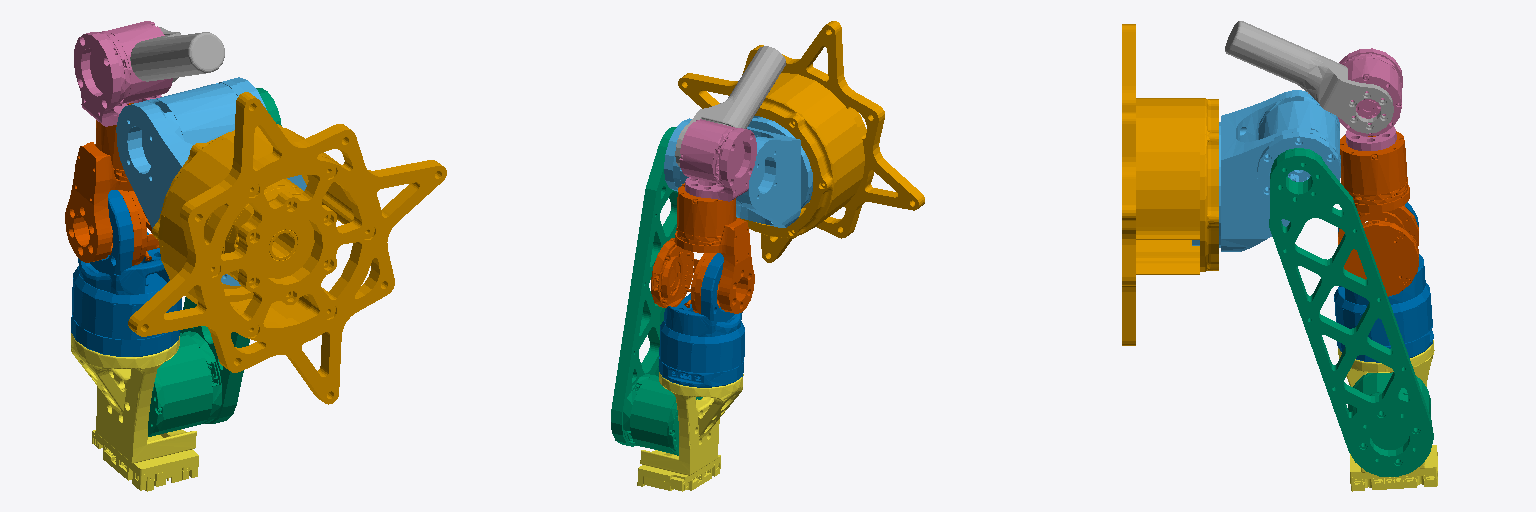
The robot description file, URDF, robot "generated_robot":
<?xml version='1.0' encoding='utf-8'?>
<robot name="generated_robot">
  <link name="base_link">
    <inertial>
      <origin xyz="-0.0012523874 -0.0079478434 0.00076099186" rpy="0 0 0" />
      <mass value="0.43745716" />
      <inertia ixx="0.00074168846" iyy="0.0011536837" izz="0.00072505604" ixy="3.1879624e-06" ixz="-1.611022e-05" iyz="-1.7502196e-06" />
    </inertial>
    <visual>
      <origin xyz="0.26681721 -0.086880066 -1.3988008" rpy="0 0 0" />
      <geometry>
        <mesh filename="meshes/part_821_1.stl" scale="0.001 0.001 0.001" />
      </geometry>
    </visual>
    <visual>
      <origin xyz="0.26681721 -0.086880066 -1.3988008" rpy="0 0 0" />
      <geometry>
        <mesh filename="meshes/part_843_1.stl" scale="0.001 0.001 0.001" />
      </geometry>
    </visual>
    <visual>
      <origin xyz="0.26681721 -0.086880066 -1.3988008" rpy="0 0 0" />
      <geometry>
        <mesh filename="meshes/part_839_part.stl" scale="0.001 0.001 0.001" />
      </geometry>
    </visual>
    <visual>
      <origin xyz="0.26681721 -0.086880066 -1.3988008" rpy="0 0 0" />
      <geometry>
        <mesh filename="meshes/part_003_-_-_-_6220.stl" scale="0.001 0.001 0.001" />
      </geometry>
    </visual>
    <collision>
      <origin xyz="0.26681721 -0.086880066 -1.3988008" rpy="0 0 0" />
      <geometry>
        <mesh filename="meshes/part_821_1.stl" scale="0.001 0.001 0.001" />
      </geometry>
    </collision>
    <collision>
      <origin xyz="0.26681721 -0.086880066 -1.3988008" rpy="0 0 0" />
      <geometry>
        <mesh filename="meshes/part_843_1.stl" scale="0.001 0.001 0.001" />
      </geometry>
    </collision>
    <collision>
      <origin xyz="0.26681721 -0.086880066 -1.3988008" rpy="0 0 0" />
      <geometry>
        <mesh filename="meshes/part_839_part.stl" scale="0.001 0.001 0.001" />
      </geometry>
    </collision>
    <collision>
      <origin xyz="0.26681721 -0.086880066 -1.3988008" rpy="0 0 0" />
      <geometry>
        <mesh filename="meshes/part_003_-_-_-_6220.stl" scale="0.001 0.001 0.001" />
      </geometry>
    </collision>
  </link>
  <link name="link_002">
    <inertial>
      <origin xyz="0.0037000905 0.0036143854 -0.039976917" rpy="0 0 0" />
      <mass value="0.35224099" />
      <inertia ixx="0.0024931476" iyy="0.00055114213" izz="0.0024851986" ixy="0.00043456541" ixz="-3.0088529e-05" iyz="0.00028961731" />
    </inertial>
    <visual>
      <origin xyz="0.26682588 -1.3988285 0.11188007" rpy="-1.5707963 0 0" />
      <geometry>
        <mesh filename="meshes/part_823_part.stl" scale="0.001 0.001 0.001" />
      </geometry>
    </visual>
    <visual>
      <origin xyz="0.26682588 -1.3988285 0.11188007" rpy="-1.5707963 0 0" />
      <geometry>
        <mesh filename="meshes/part_824_part.stl" scale="0.001 0.001 0.001" />
      </geometry>
    </visual>
    <visual>
      <origin xyz="0.26682588 -1.3988285 0.11188007" rpy="-1.5707963 0 0" />
      <geometry>
        <mesh filename="meshes/part_822_-_-_-4340.stl" scale="0.001 0.001 0.001" />
      </geometry>
    </visual>
    <visual>
      <origin xyz="0.26682588 -1.3988285 0.11188007" rpy="-1.5707963 0 0" />
      <geometry>
        <mesh filename="meshes/part_001_-_-_-_4340.stl" scale="0.001 0.001 0.001" />
      </geometry>
    </visual>
    <visual>
      <origin xyz="0.26682588 -1.3988285 0.11188007" rpy="-1.5707963 0 0" />
      <geometry>
        <mesh filename="meshes/part_828_-_-_-J1.stl" scale="0.001 0.001 0.001" />
      </geometry>
    </visual>
    <collision>
      <origin xyz="0.26682588 -1.3988285 0.11188007" rpy="-1.5707963 0 0" />
      <geometry>
        <mesh filename="meshes/part_823_part.stl" scale="0.001 0.001 0.001" />
      </geometry>
    </collision>
    <collision>
      <origin xyz="0.26682588 -1.3988285 0.11188007" rpy="-1.5707963 0 0" />
      <geometry>
        <mesh filename="meshes/part_824_part.stl" scale="0.001 0.001 0.001" />
      </geometry>
    </collision>
    <collision>
      <origin xyz="0.26682588 -1.3988285 0.11188007" rpy="-1.5707963 0 0" />
      <geometry>
        <mesh filename="meshes/part_822_-_-_-4340.stl" scale="0.001 0.001 0.001" />
      </geometry>
    </collision>
    <collision>
      <origin xyz="0.26682588 -1.3988285 0.11188007" rpy="-1.5707963 0 0" />
      <geometry>
        <mesh filename="meshes/part_001_-_-_-_4340.stl" scale="0.001 0.001 0.001" />
      </geometry>
    </collision>
    <collision>
      <origin xyz="0.26682588 -1.3988285 0.11188007" rpy="-1.5707963 0 0" />
      <geometry>
        <mesh filename="meshes/part_828_-_-_-J1.stl" scale="0.001 0.001 0.001" />
      </geometry>
    </collision>
  </link>
  <link name="link_003">
    <inertial>
      <origin xyz="0.046783865 0.14593982 0.0040497355" rpy="0 0 0" />
      <mass value="0.2387612" />
      <inertia ixx="0.0012762282" iyy="0.00024870496" izz="0.001390384" ixy="-0.00036693825" ixz="-5.02429e-05" iyz="-0.00015644575" />
    </inertial>
    <visual>
      <origin xyz="-0.17514007 1.4247937 -0.2344821" rpy="0 1.5681819 -1.5707963" />
      <geometry>
        <mesh filename="meshes/part_826_-_-_-L1.stl" scale="0.001 0.001 0.001" />
      </geometry>
    </visual>
    <visual>
      <origin xyz="-0.17514007 1.4247937 -0.2344821" rpy="0 1.5681819 -1.5707963" />
      <geometry>
        <mesh filename="meshes/part_829_DM-J4310-2EC-V1.1__3d_20240822_1.stl" scale="0.001 0.001 0.001" />
      </geometry>
    </visual>
    <collision>
      <origin xyz="-0.17514007 1.4247937 -0.2344821" rpy="0 1.5681819 -1.5707963" />
      <geometry>
        <mesh filename="meshes/part_826_-_-_-L1.stl" scale="0.001 0.001 0.001" />
      </geometry>
    </collision>
    <collision>
      <origin xyz="-0.17514007 1.4247937 -0.2344821" rpy="0 1.5681819 -1.5707963" />
      <geometry>
        <mesh filename="meshes/part_829_DM-J4310-2EC-V1.1__3d_20240822_1.stl" scale="0.001 0.001 0.001" />
      </geometry>
    </collision>
  </link>
  <link name="link_004">
    <inertial>
      <origin xyz="-3.0727827e-05 -0.0049346212 -0.047427426" rpy="0 0 0" />
      <mass value="0.10279982" />
      <inertia ixx="0.00013702554" iyy="5.3883915e-05" izz="0.00013901364" ixy="4.0658761e-06" ixz="-1.5355201e-06" iyz="2.7756547e-05" />
    </inertial>
    <visual>
      <origin xyz="-0.23745231 -1.2305434 0.2284821" rpy="-3.1415927 -1.5681819 1.5707963" />
      <geometry>
        <mesh filename="meshes/part_831_-_-_-L2.stl" scale="0.001 0.001 0.001" />
      </geometry>
    </visual>
    <visual>
      <origin xyz="-0.23745231 -1.2305434 0.2284821" rpy="-3.1415927 -1.5681819 1.5707963" />
      <geometry>
        <mesh filename="meshes/part_844_C.stl" scale="0.001 0.001 0.001" />
      </geometry>
    </visual>
    <collision>
      <origin xyz="-0.23745231 -1.2305434 0.2284821" rpy="-3.1415927 -1.5681819 1.5707963" />
      <geometry>
        <mesh filename="meshes/part_831_-_-_-L2.stl" scale="0.001 0.001 0.001" />
      </geometry>
    </collision>
    <collision>
      <origin xyz="-0.23745231 -1.2305434 0.2284821" rpy="-3.1415927 -1.5681819 1.5707963" />
      <geometry>
        <mesh filename="meshes/part_844_C.stl" scale="0.001 0.001 0.001" />
      </geometry>
    </collision>
  </link>
  <link name="link_005">
    <inertial>
      <origin xyz="-0.011474838 -0.0093333223 -0.08023141" rpy="0 0 0" />
      <mass value="0.31123327" />
      <inertia ixx="9.9253208e-06" iyy="0.00016824841" izz="-0.00017816439" ixy="0.00040167327" ixz="0.0019013032" iyz="0.0012955779" />
    </inertial>
    <visual>
      <origin xyz="0.28142878 0.31634242 1.254674" rpy="3.0770748 0.002608993 0" />
      <geometry>
        <mesh filename="meshes/part_820_RoboMaster_GM6020.stl" scale="0.001 0.001 0.001" />
      </geometry>
    </visual>
    <visual>
      <origin xyz="0.28142878 0.31634242 1.254674" rpy="3.0770748 0.002608993 0" />
      <geometry>
        <mesh filename="meshes/part_834_-_-_-J4.stl" scale="0.001 0.001 0.001" />
      </geometry>
    </visual>
    <collision>
      <origin xyz="0.28142878 0.31634242 1.254674" rpy="3.0770748 0.002608993 0" />
      <geometry>
        <mesh filename="meshes/part_820_RoboMaster_GM6020.stl" scale="0.001 0.001 0.001" />
      </geometry>
    </collision>
    <collision>
      <origin xyz="0.28142878 0.31634242 1.254674" rpy="3.0770748 0.002608993 0" />
      <geometry>
        <mesh filename="meshes/part_834_-_-_-J4.stl" scale="0.001 0.001 0.001" />
      </geometry>
    </collision>
  </link>
  <link name="link_006">
    <inertial>
      <origin xyz="-0.007394056 -0.043208935 0.025177852" rpy="0 0 0" />
      <mass value="0.11654461" />
      <inertia ixx="4.7994594e-06" iyy="2.5511182e-05" izz="-6.1469499e-06" ixy="-9.7120499e-05" ixz="1.5431731e-05" iyz="-8.0884751e-05" />
    </inertial>
    <visual>
      <origin xyz="-0.27415791 1.354018 -0.20901066" rpy="-1.618047 1.4208278 3.0938065" />
      <geometry>
        <mesh filename="meshes/part_830_56.stl" scale="0.001 0.001 0.001" />
      </geometry>
    </visual>
    <visual>
      <origin xyz="-0.27415791 1.354018 -0.20901066" rpy="-1.618047 1.4208278 3.0938065" />
      <geometry>
        <mesh filename="meshes/part_378_surface_shell_401.stl" scale="0.001 0.001 0.001" />
      </geometry>
    </visual>
    <visual>
      <origin xyz="-0.27415791 1.354018 -0.20901066" rpy="-1.618047 1.4208278 3.0938065" />
      <geometry>
        <mesh filename="meshes/part_412_surface_shell_435.stl" scale="0.001 0.001 0.001" />
      </geometry>
    </visual>
    <visual>
      <origin xyz="-0.27415791 1.354018 -0.20901066" rpy="-1.618047 1.4208278 3.0938065" />
      <geometry>
        <mesh filename="meshes/part_833_28X35X4.stl" scale="0.001 0.001 0.001" />
      </geometry>
    </visual>
    <visual>
      <origin xyz="-0.27415791 1.354018 -0.20901066" rpy="-1.618047 1.4208278 3.0938065" />
      <geometry>
        <mesh filename="meshes/part_453_surface_shell_476.stl" scale="0.001 0.001 0.001" />
      </geometry>
    </visual>
    <visual>
      <origin xyz="-0.27415791 1.354018 -0.20901066" rpy="-1.618047 1.4208278 3.0938065" />
      <geometry>
        <mesh filename="meshes/part_624_surface_shell_647.stl" scale="0.001 0.001 0.001" />
      </geometry>
    </visual>
    <visual>
      <origin xyz="-0.27415791 1.354018 -0.20901066" rpy="-1.618047 1.4208278 3.0938065" />
      <geometry>
        <mesh filename="meshes/part_249_surface_shell_272.stl" scale="0.001 0.001 0.001" />
      </geometry>
    </visual>
    <visual>
      <origin xyz="-0.27415791 1.354018 -0.20901066" rpy="-1.618047 1.4208278 3.0938065" />
      <geometry>
        <mesh filename="meshes/part_110_surface_shell_133.stl" scale="0.001 0.001 0.001" />
      </geometry>
    </visual>
    <visual>
      <origin xyz="-0.27415791 1.354018 -0.20901066" rpy="-1.618047 1.4208278 3.0938065" />
      <geometry>
        <mesh filename="meshes/part_336_surface_shell_359.stl" scale="0.001 0.001 0.001" />
      </geometry>
    </visual>
    <visual>
      <origin xyz="-0.27415791 1.354018 -0.20901066" rpy="-1.618047 1.4208278 3.0938065" />
      <geometry>
        <mesh filename="meshes/part_420_surface_shell_443.stl" scale="0.001 0.001 0.001" />
      </geometry>
    </visual>
    <visual>
      <origin xyz="-0.27415791 1.354018 -0.20901066" rpy="-1.618047 1.4208278 3.0938065" />
      <geometry>
        <mesh filename="meshes/part_360_surface_shell_383.stl" scale="0.001 0.001 0.001" />
      </geometry>
    </visual>
    <visual>
      <origin xyz="-0.27415791 1.354018 -0.20901066" rpy="-1.618047 1.4208278 3.0938065" />
      <geometry>
        <mesh filename="meshes/part_329_surface_shell_352.stl" scale="0.001 0.001 0.001" />
      </geometry>
    </visual>
    <visual>
      <origin xyz="-0.27415791 1.354018 -0.20901066" rpy="-1.618047 1.4208278 3.0938065" />
      <geometry>
        <mesh filename="meshes/part_365_surface_shell_388.stl" scale="0.001 0.001 0.001" />
      </geometry>
    </visual>
    <visual>
      <origin xyz="-0.27415791 1.354018 -0.20901066" rpy="-1.618047 1.4208278 3.0938065" />
      <geometry>
        <mesh filename="meshes/part_835_-_-_-J4_1.stl" scale="0.001 0.001 0.001" />
      </geometry>
    </visual>
    <visual>
      <origin xyz="-0.27415791 1.354018 -0.20901066" rpy="-1.618047 1.4208278 3.0938065" />
      <geometry>
        <mesh filename="meshes/part_004_4310_3D_20221104.stl" scale="0.001 0.001 0.001" />
      </geometry>
    </visual>
    <visual>
      <origin xyz="-0.27415791 1.354018 -0.20901066" rpy="-1.618047 1.4208278 3.0938065" />
      <geometry>
        <mesh filename="meshes/part_270_surface_shell_293.stl" scale="0.001 0.001 0.001" />
      </geometry>
    </visual>
    <visual>
      <origin xyz="-0.27415791 1.354018 -0.20901066" rpy="-1.618047 1.4208278 3.0938065" />
      <geometry>
        <mesh filename="meshes/part_447_surface_shell_470.stl" scale="0.001 0.001 0.001" />
      </geometry>
    </visual>
    <visual>
      <origin xyz="-0.27415791 1.354018 -0.20901066" rpy="-1.618047 1.4208278 3.0938065" />
      <geometry>
        <mesh filename="meshes/part_305_surface_shell_328.stl" scale="0.001 0.001 0.001" />
      </geometry>
    </visual>
    <visual>
      <origin xyz="-0.27415791 1.354018 -0.20901066" rpy="-1.618047 1.4208278 3.0938065" />
      <geometry>
        <mesh filename="meshes/part_143_surface_shell_166.stl" scale="0.001 0.001 0.001" />
      </geometry>
    </visual>
    <visual>
      <origin xyz="-0.27415791 1.354018 -0.20901066" rpy="-1.618047 1.4208278 3.0938065" />
      <geometry>
        <mesh filename="meshes/part_819_dm_3507_3d-241021.stl" scale="0.001 0.001 0.001" />
      </geometry>
    </visual>
    <collision>
      <origin xyz="-0.27415791 1.354018 -0.20901066" rpy="-1.618047 1.4208278 3.0938065" />
      <geometry>
        <mesh filename="meshes/part_830_56.stl" scale="0.001 0.001 0.001" />
      </geometry>
    </collision>
    <collision>
      <origin xyz="-0.27415791 1.354018 -0.20901066" rpy="-1.618047 1.4208278 3.0938065" />
      <geometry>
        <mesh filename="meshes/part_378_surface_shell_401.stl" scale="0.001 0.001 0.001" />
      </geometry>
    </collision>
    <collision>
      <origin xyz="-0.27415791 1.354018 -0.20901066" rpy="-1.618047 1.4208278 3.0938065" />
      <geometry>
        <mesh filename="meshes/part_412_surface_shell_435.stl" scale="0.001 0.001 0.001" />
      </geometry>
    </collision>
    <collision>
      <origin xyz="-0.27415791 1.354018 -0.20901066" rpy="-1.618047 1.4208278 3.0938065" />
      <geometry>
        <mesh filename="meshes/part_833_28X35X4.stl" scale="0.001 0.001 0.001" />
      </geometry>
    </collision>
    <collision>
      <origin xyz="-0.27415791 1.354018 -0.20901066" rpy="-1.618047 1.4208278 3.0938065" />
      <geometry>
        <mesh filename="meshes/part_453_surface_shell_476.stl" scale="0.001 0.001 0.001" />
      </geometry>
    </collision>
    <collision>
      <origin xyz="-0.27415791 1.354018 -0.20901066" rpy="-1.618047 1.4208278 3.0938065" />
      <geometry>
        <mesh filename="meshes/part_624_surface_shell_647.stl" scale="0.001 0.001 0.001" />
      </geometry>
    </collision>
    <collision>
      <origin xyz="-0.27415791 1.354018 -0.20901066" rpy="-1.618047 1.4208278 3.0938065" />
      <geometry>
        <mesh filename="meshes/part_249_surface_shell_272.stl" scale="0.001 0.001 0.001" />
      </geometry>
    </collision>
    <collision>
      <origin xyz="-0.27415791 1.354018 -0.20901066" rpy="-1.618047 1.4208278 3.0938065" />
      <geometry>
        <mesh filename="meshes/part_110_surface_shell_133.stl" scale="0.001 0.001 0.001" />
      </geometry>
    </collision>
    <collision>
      <origin xyz="-0.27415791 1.354018 -0.20901066" rpy="-1.618047 1.4208278 3.0938065" />
      <geometry>
        <mesh filename="meshes/part_336_surface_shell_359.stl" scale="0.001 0.001 0.001" />
      </geometry>
    </collision>
    <collision>
      <origin xyz="-0.27415791 1.354018 -0.20901066" rpy="-1.618047 1.4208278 3.0938065" />
      <geometry>
        <mesh filename="meshes/part_420_surface_shell_443.stl" scale="0.001 0.001 0.001" />
      </geometry>
    </collision>
    <collision>
      <origin xyz="-0.27415791 1.354018 -0.20901066" rpy="-1.618047 1.4208278 3.0938065" />
      <geometry>
        <mesh filename="meshes/part_360_surface_shell_383.stl" scale="0.001 0.001 0.001" />
      </geometry>
    </collision>
    <collision>
      <origin xyz="-0.27415791 1.354018 -0.20901066" rpy="-1.618047 1.4208278 3.0938065" />
      <geometry>
        <mesh filename="meshes/part_329_surface_shell_352.stl" scale="0.001 0.001 0.001" />
      </geometry>
    </collision>
    <collision>
      <origin xyz="-0.27415791 1.354018 -0.20901066" rpy="-1.618047 1.4208278 3.0938065" />
      <geometry>
        <mesh filename="meshes/part_365_surface_shell_388.stl" scale="0.001 0.001 0.001" />
      </geometry>
    </collision>
    <collision>
      <origin xyz="-0.27415791 1.354018 -0.20901066" rpy="-1.618047 1.4208278 3.0938065" />
      <geometry>
        <mesh filename="meshes/part_835_-_-_-J4_1.stl" scale="0.001 0.001 0.001" />
      </geometry>
    </collision>
    <collision>
      <origin xyz="-0.27415791 1.354018 -0.20901066" rpy="-1.618047 1.4208278 3.0938065" />
      <geometry>
        <mesh filename="meshes/part_004_4310_3D_20221104.stl" scale="0.001 0.001 0.001" />
      </geometry>
    </collision>
    <collision>
      <origin xyz="-0.27415791 1.354018 -0.20901066" rpy="-1.618047 1.4208278 3.0938065" />
      <geometry>
        <mesh filename="meshes/part_270_surface_shell_293.stl" scale="0.001 0.001 0.001" />
      </geometry>
    </collision>
    <collision>
      <origin xyz="-0.27415791 1.354018 -0.20901066" rpy="-1.618047 1.4208278 3.0938065" />
      <geometry>
        <mesh filename="meshes/part_447_surface_shell_470.stl" scale="0.001 0.001 0.001" />
      </geometry>
    </collision>
    <collision>
      <origin xyz="-0.27415791 1.354018 -0.20901066" rpy="-1.618047 1.4208278 3.0938065" />
      <geometry>
        <mesh filename="meshes/part_305_surface_shell_328.stl" scale="0.001 0.001 0.001" />
      </geometry>
    </collision>
    <collision>
      <origin xyz="-0.27415791 1.354018 -0.20901066" rpy="-1.618047 1.4208278 3.0938065" />
      <geometry>
        <mesh filename="meshes/part_143_surface_shell_166.stl" scale="0.001 0.001 0.001" />
      </geometry>
    </collision>
    <collision>
      <origin xyz="-0.27415791 1.354018 -0.20901066" rpy="-1.618047 1.4208278 3.0938065" />
      <geometry>
        <mesh filename="meshes/part_819_dm_3507_3d-241021.stl" scale="0.001 0.001 0.001" />
      </geometry>
    </collision>
  </link>
  <link name="link_007">
    <inertial>
      <origin xyz="-0.0063493648 -0.00059167353 0.067613322" rpy="0 0 0" />
      <mass value="0.08098692" />
      <inertia ixx="0.00014181614" iyy="0.00014115899" izz="3.1288403e-05" ixy="4.4025914e-06" ixz="1.9601096e-05" iyz="-2.4156372e-05" />
    </inertial>
    <visual>
      <origin xyz="0.28142878 -0.31634242 -1.3682607" rpy="-0.06451786 -0.002608993 0" />
      <geometry>
        <mesh filename="meshes/part_832_-_-_-J5J6.stl" scale="0.001 0.001 0.001" />
      </geometry>
    </visual>
    <visual>
      <origin xyz="0.28142878 -0.31634242 -1.3682607" rpy="-0.06451786 -0.002608993 0" />
      <geometry>
        <mesh filename="meshes/part_818_dm_3507_3d-241021.stl" scale="0.001 0.001 0.001" />
      </geometry>
    </visual>
    <collision>
      <origin xyz="0.28142878 -0.31634242 -1.3682607" rpy="-0.06451786 -0.002608993 0" />
      <geometry>
        <mesh filename="meshes/part_832_-_-_-J5J6.stl" scale="0.001 0.001 0.001" />
      </geometry>
    </collision>
    <collision>
      <origin xyz="0.28142878 -0.31634242 -1.3682607" rpy="-0.06451786 -0.002608993 0" />
      <geometry>
        <mesh filename="meshes/part_818_dm_3507_3d-241021.stl" scale="0.001 0.001 0.001" />
      </geometry>
    </collision>
  </link>
  <link name="link_008">
    <inertial>
      <origin xyz="-0.043588052 0.021036177 -0.011378677" rpy="0 0 0" />
      <mass value="0.029827452" />
      <inertia ixx="1.1242604e-05" iyy="2.9908312e-05" izz="3.4039532e-05" ixy="1.1751392e-05" ixz="-6.0751883e-06" iyz="2.9325573e-06" />
    </inertial>
    <visual>
      <origin xyz="-0.22271467 -1.4586546 0.2675821" rpy="-3.1415927 -1.5681819 1.5707963" />
      <geometry>
        <mesh filename="meshes/part_836_-_-_-.stl" scale="0.001 0.001 0.001" />
      </geometry>
    </visual>
    <collision>
      <origin xyz="-0.22271467 -1.4586546 0.2675821" rpy="-3.1415927 -1.5681819 1.5707963" />
      <geometry>
        <mesh filename="meshes/part_836_-_-_-.stl" scale="0.001 0.001 0.001" />
      </geometry>
    </collision>
  </link>
  <joint name="link_002_joint" type="revolute">
    <origin xyz="-8.662165e-06 0.025000001 2.769516e-05" rpy="1.5707963 0 0" />
    <parent link="base_link" />
    <child link="link_002" />
    <axis xyz="0 0 1" />
    <limit lower="-1.57" upper="1.57" effort="10" velocity="5" />
  </joint>
  <joint name="link_003_joint" type="revolute">
    <origin xyz="0.036069598 0.026573411 -0.06326" rpy="0 1.5707963 3.1389782" />
    <parent link="link_002" />
    <child link="link_003" />
    <axis xyz="0 0 1" />
    <limit lower="-1.57" upper="1.57" effort="10" velocity="5" />
  </joint>
  <joint name="link_004_joint" type="revolute">
    <origin xyz="0.062312248 0.19425031 -0.0060000001" rpy="-3.1415927 0 0" />
    <parent link="link_003" />
    <child link="link_004" />
    <axis xyz="0 0 1" />
    <limit lower="-1.57" upper="1.57" effort="10" velocity="5" />
  </joint>
  <joint name="link_005_joint" type="revolute">
    <origin xyz="-0.0027078612 0.041912617 -0.053" rpy="1.5707929 -1.5706278 0.064521089" />
    <parent link="link_004" />
    <child link="link_005" />
    <axis xyz="0 0 1" />
    <limit lower="-1.57" upper="1.57" effort="10" velocity="5" />
  </joint>
  <joint name="link_006_joint" type="revolute">
    <origin xyz="0.020706928 -0.010234868 -0.078586752" rpy="1.5707963 -0.065249392 -1.7207424" />
    <parent link="link_005" />
    <child link="link_006" />
    <axis xyz="0 0 1" />
    <limit lower="-1.57" upper="1.57" effort="10" velocity="5" />
  </joint>
  <joint name="link_007_joint" type="revolute">
    <origin xyz="-0.0092938797 -0.034467356 0.022003512" rpy="-1.5707963 1.4208503 3.0763433" />
    <parent link="link_006" />
    <child link="link_007" />
    <axis xyz="0 0 1" />
    <limit lower="-1.57" upper="1.57" effort="10" velocity="5" />
  </joint>
  <joint name="link_008_joint" type="revolute">
    <origin xyz="0.0139 -2.3427066e-06 0.073" rpy="1.5707963 0.06451764 1.5706278" />
    <parent link="link_007" />
    <child link="link_008" />
    <axis xyz="0 0 1" />
    <limit lower="-1.57" upper="1.57" effort="10" velocity="5" />
  </joint>
</robot>

--- What the picture shows (computed from the rendered views, not written in the file) ---
The picture shows the robot from 3 angles, left to right: view 1: azimuth 30°, elevation 25°; view 2: azimuth 150°, elevation 25°; view 3: azimuth 270°, elevation 25°; orthographic projection.
Robot: generated_robot — 8 links, 7 joints (7 revolute); root link base_link; default pose: every joint at zero.
Links seen in each view (by area): view 1: base_link, link_004, link_002, link_005, link_003, link_006, link_007, link_008; view 2: base_link, link_003, link_006, link_005, link_002, link_004, link_007, link_008; view 3: link_003, base_link, link_002, link_006, link_008, link_005, link_007, link_004.
Boxes of the visible links, x1,y1,x2,y2 form: base_link: (128, 92, 446, 404); link_004: (71, 333, 198, 491); link_002: (116, 77, 306, 285); link_005: (71, 190, 181, 356); link_003: (148, 88, 281, 436); link_006: (65, 103, 159, 265); link_007: (74, 21, 172, 126); link_008: (130, 27, 224, 82); base_link: (678, 21, 924, 262); link_003: (611, 127, 702, 455); link_006: (651, 183, 754, 313); link_005: (659, 253, 744, 387); link_002: (664, 116, 812, 227); link_004: (637, 372, 743, 491); link_007: (679, 119, 756, 201); link_008: (675, 46, 785, 166); link_003: (1269, 148, 1433, 476); base_link: (1122, 24, 1218, 345); link_002: (1192, 90, 1340, 251); link_006: (1338, 131, 1418, 296); link_008: (1225, 21, 1393, 133); link_005: (1334, 202, 1433, 362); link_007: (1338, 48, 1402, 150); link_004: (1338, 340, 1437, 491).
Bounding box of the posed robot: 0.217 × 0.2173 × 0.3381 m (x, y, z).
Meshes: 38 distinct files referenced, 38 mesh visuals loaded (38 binary STL).
